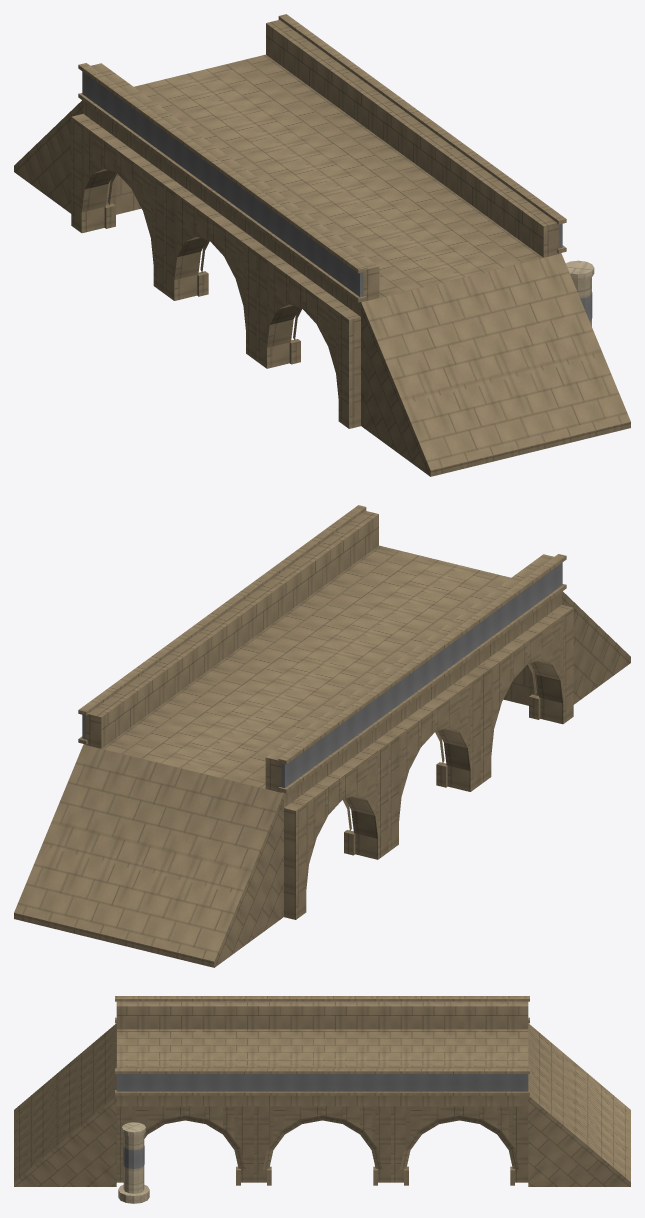
File: highway.glb
3 views of the same model, one above another, from view 1: azimuth 30°, elevation 25°; view 2: azimuth 150°, elevation 25°; view 3: azimuth 270°, elevation 25° (orthographic). The views are drawn at different scales.
Visible parts, largest first — view 1: LOD0; view 2: LOD0; view 3: LOD0.
Part boxes in pixels (box(x1,y1,x2,y2)): LOD0: box(14, 14, 630, 476); LOD0: box(14, 505, 630, 967); LOD0: box(14, 996, 630, 1203).
Size of what is drawn, in the model's own units: 0.646 by 0.377 by 1.8.
Materials: 2 (2 with a texture image).
